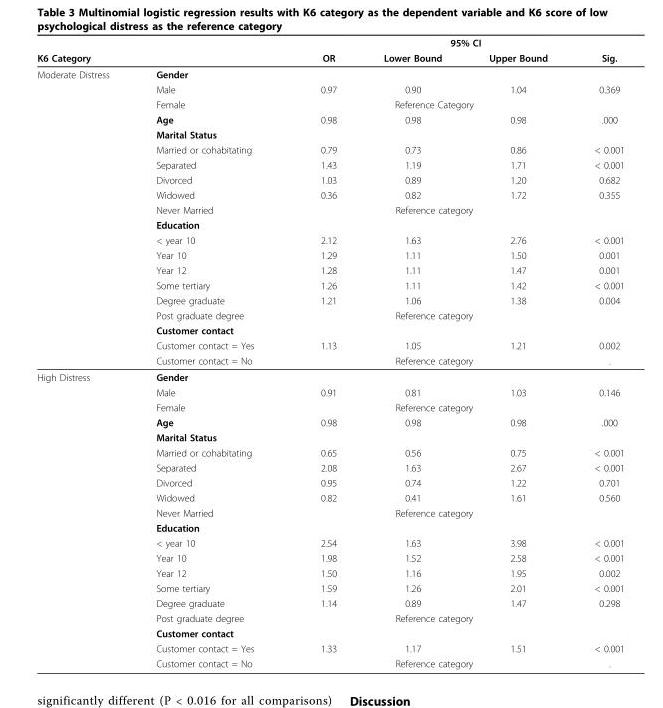table: (36, 36, 623, 668)
table column: (132, 36, 286, 668), (464, 36, 570, 668), (359, 36, 464, 668), (36, 36, 132, 668), (286, 36, 359, 668), (570, 36, 623, 668)
table column header: (36, 36, 623, 65)
table row: (36, 49, 623, 65), (36, 65, 623, 81), (36, 141, 623, 157), (36, 352, 623, 368), (36, 368, 623, 384), (36, 489, 623, 505), (36, 81, 623, 96), (36, 96, 623, 111), (36, 111, 623, 126), (36, 126, 623, 141), (36, 157, 623, 172), (36, 172, 623, 187), (36, 187, 623, 202), (36, 202, 623, 217), (36, 217, 623, 232), (36, 232, 623, 247), (36, 247, 623, 262), (36, 262, 623, 277), (36, 277, 623, 292), (36, 292, 623, 307), (36, 307, 623, 322), (36, 322, 623, 337), (36, 337, 623, 352), (36, 384, 623, 399), (36, 399, 623, 414), (36, 414, 623, 429), (36, 429, 623, 444), (36, 444, 623, 459), (36, 459, 623, 474), (36, 474, 623, 489), (36, 505, 623, 520), (36, 520, 623, 535), (36, 535, 623, 550), (36, 550, 623, 565), (36, 565, 623, 580), (36, 580, 623, 595), (36, 595, 623, 610), (36, 610, 623, 625), (36, 625, 623, 640), (36, 640, 623, 655), (36, 36, 623, 49), (36, 655, 623, 668)
table spanning cell: (36, 65, 132, 368), (36, 368, 132, 668), (286, 352, 570, 368), (286, 96, 570, 111), (286, 202, 570, 217), (286, 307, 570, 322), (286, 399, 570, 414), (286, 505, 570, 520), (286, 610, 570, 625), (36, 49, 286, 65), (286, 655, 570, 668), (359, 36, 570, 49), (286, 36, 359, 65), (570, 36, 623, 65)
